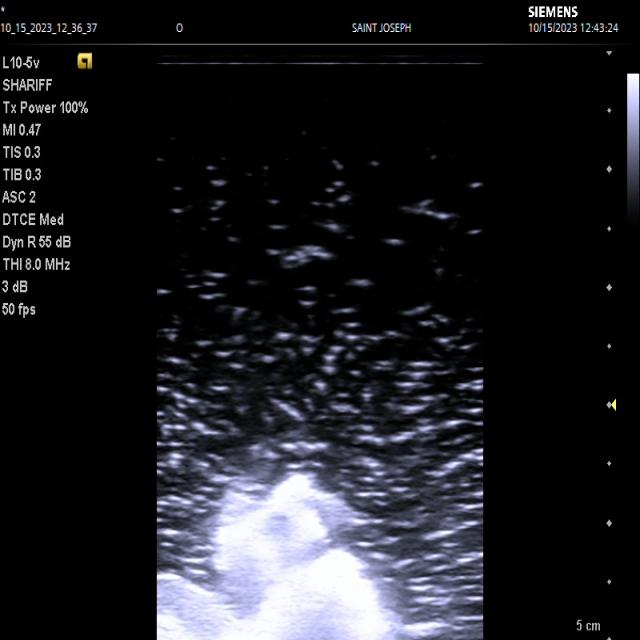tissue: (157, 473, 402, 640)
